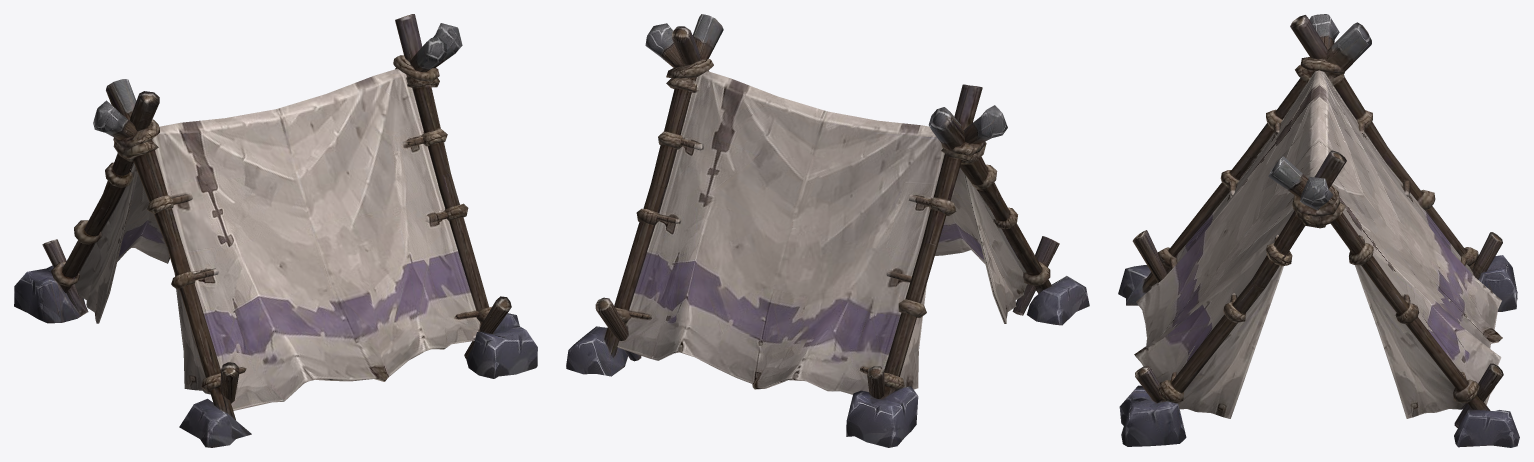
Rendered from prospector_lean_to.glb.
3 renders of one model, left to right at view 1: azimuth 30°, elevation 25°; view 2: azimuth 150°, elevation 25°; view 3: azimuth 270°, elevation 25°, orthographic.
Parts seen in each view (by area): view 1: kit-prospector-lean-to-1; view 2: kit-prospector-lean-to-1; view 3: kit-prospector-lean-to-1.
Boxes of the visible parts, x1=… form: kit-prospector-lean-to-1: x1=14, y1=14, x2=537, y2=447; kit-prospector-lean-to-1: x1=566, y1=14, x2=1089, y2=447; kit-prospector-lean-to-1: x1=1118, y1=14, x2=1519, y2=447.
Bounding box in the file's own units: 3 × 2.27 × 2.92.
1 material, 1 textured.
